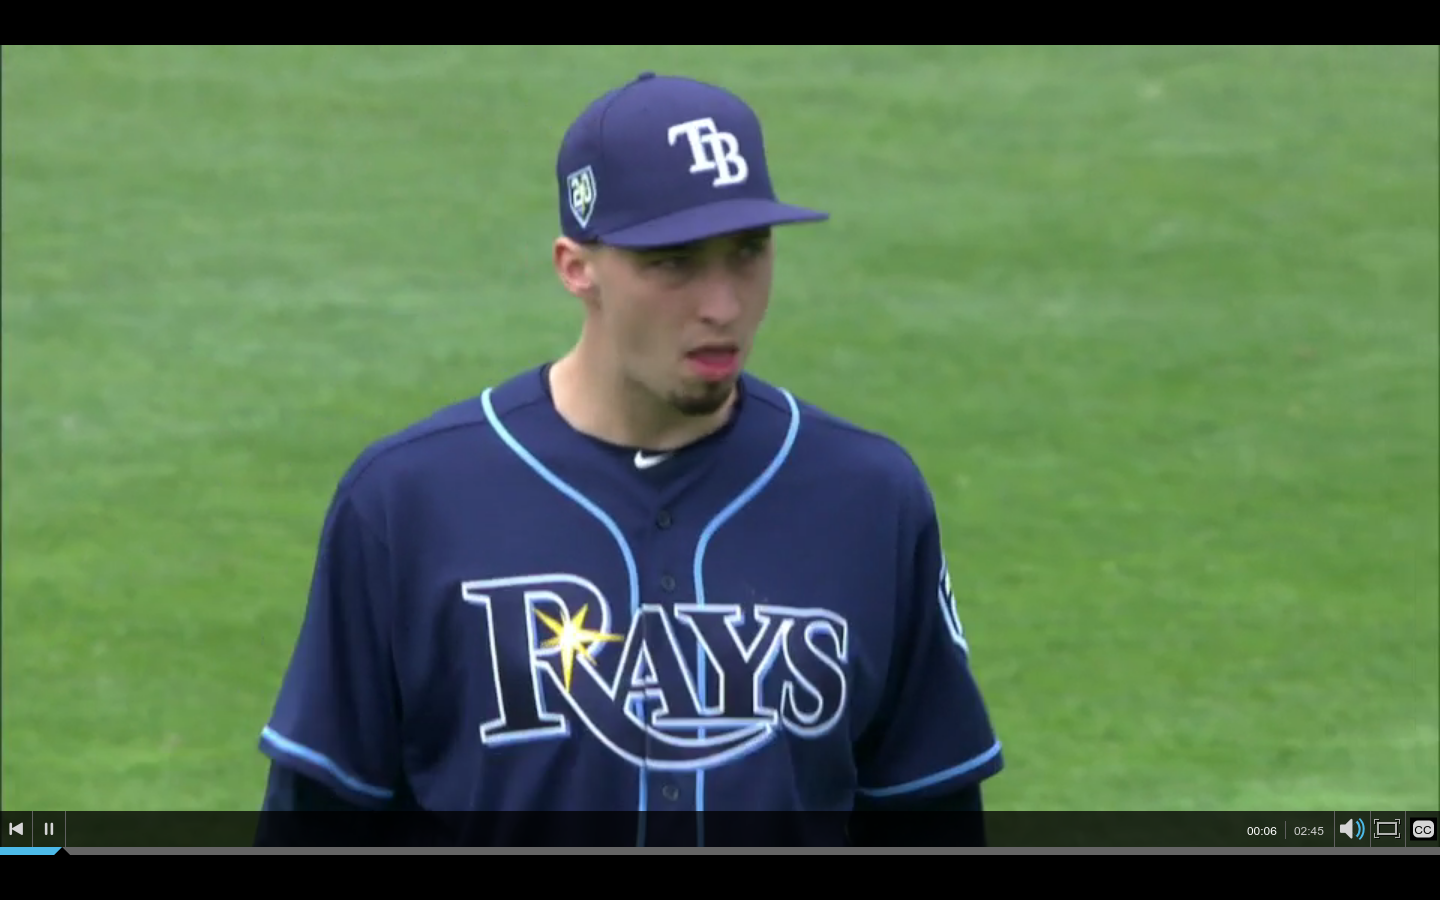baseball player: (239, 66, 1018, 809)
